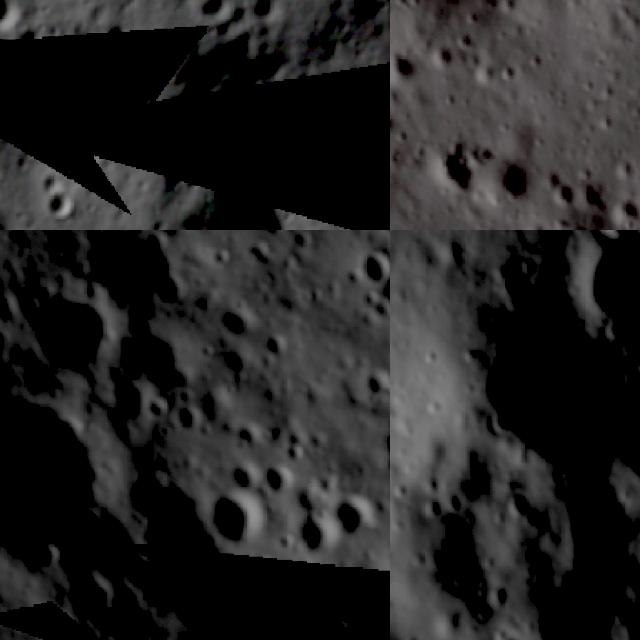crater: (463, 315, 640, 475), (0, 393, 120, 567), (161, 28, 297, 179), (170, 142, 317, 230), (24, 279, 128, 379), (562, 231, 640, 355), (517, 567, 640, 640), (87, 230, 190, 311), (19, 160, 99, 230), (205, 484, 276, 560), (291, 510, 344, 576), (333, 492, 390, 546), (420, 139, 478, 192), (488, 152, 530, 218), (356, 241, 390, 290), (544, 172, 581, 216), (310, 612, 367, 640), (263, 456, 297, 501), (178, 398, 212, 440), (0, 0, 32, 41), (360, 364, 390, 405), (375, 73, 390, 151), (606, 196, 640, 230), (363, 291, 390, 332), (279, 439, 313, 470), (371, 191, 390, 230), (39, 230, 82, 247), (378, 427, 390, 470)
